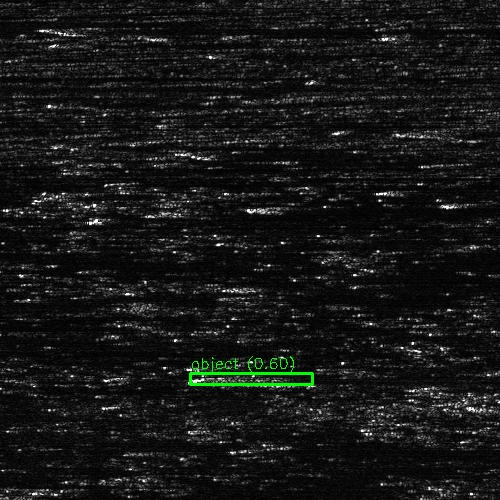rock: (374, 125, 489, 136), (146, 146, 239, 157), (52, 25, 105, 32), (372, 187, 425, 192), (205, 375, 246, 380), (411, 385, 452, 390), (475, 405, 500, 412)
shadow: (0, 74, 271, 99), (79, 25, 459, 32), (193, 146, 360, 157), (226, 375, 500, 380), (0, 18, 217, 23), (432, 125, 500, 136), (399, 187, 487, 192), (432, 385, 500, 390), (0, 73, 42, 80), (491, 405, 500, 412)
